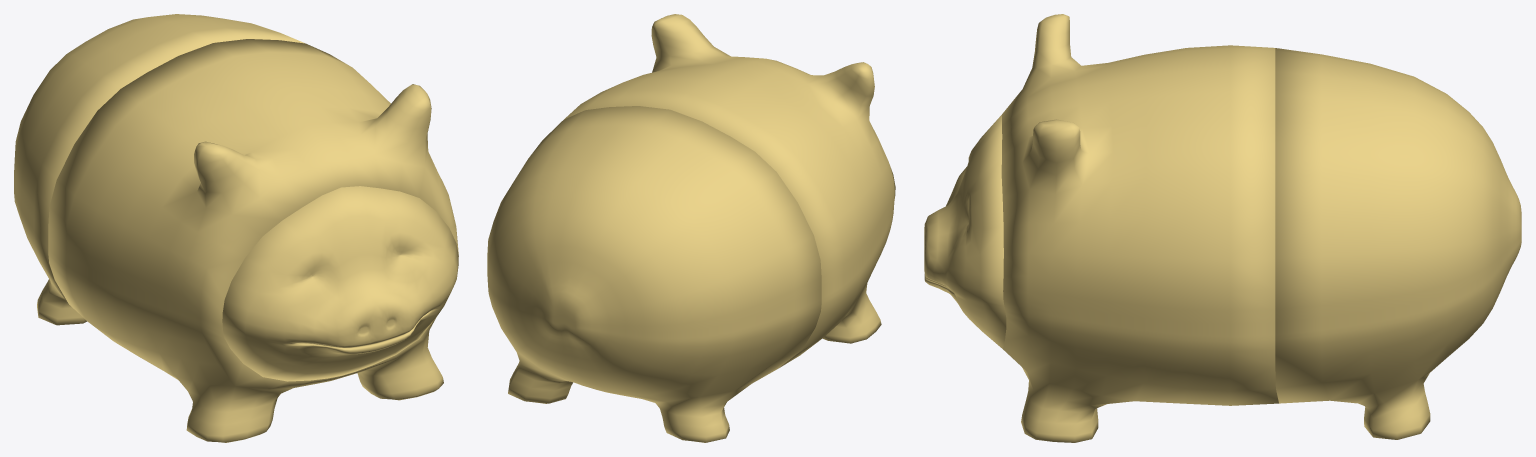
File: shatteredpig.gltf
3 views of the same model, side by side, from view 1: azimuth 30°, elevation 25°; view 2: azimuth 150°, elevation 25°; view 3: azimuth 270°, elevation 25° (orthographic). The views are drawn at different scales.
Visible parts, largest first — view 1: pig, pig.001, pig.002; view 2: pig.002, pig; view 3: pig, pig.002, pig.001.
Part boxes in pixels (x1,y1,x2,y2): pig: (48,39,458,442); pig.001: (222,186,458,381); pig.002: (14,14,304,325); pig.002: (487,106,821,442); pig: (564,14,895,368); pig: (1001,14,1278,442); pig.002: (1275,48,1521,439); pig.001: (924,115,1006,348).
Bounding box in the file's own units: 3.81 × 3.19 × 5.49.
